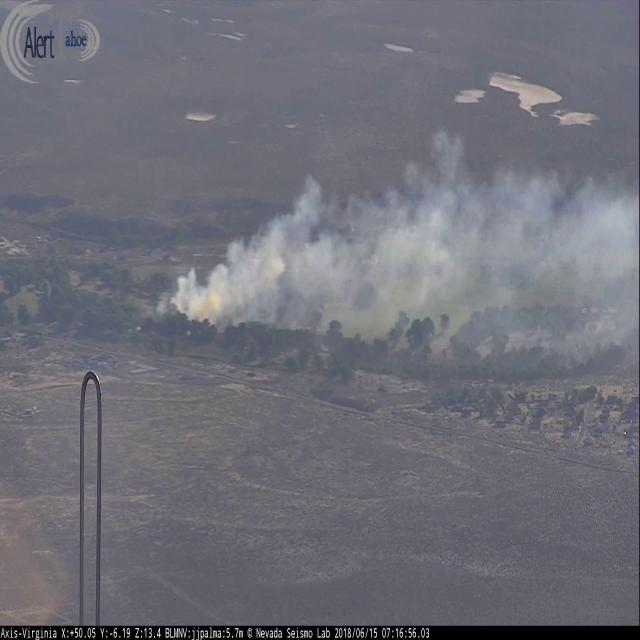smoke: (143, 165, 640, 332)
